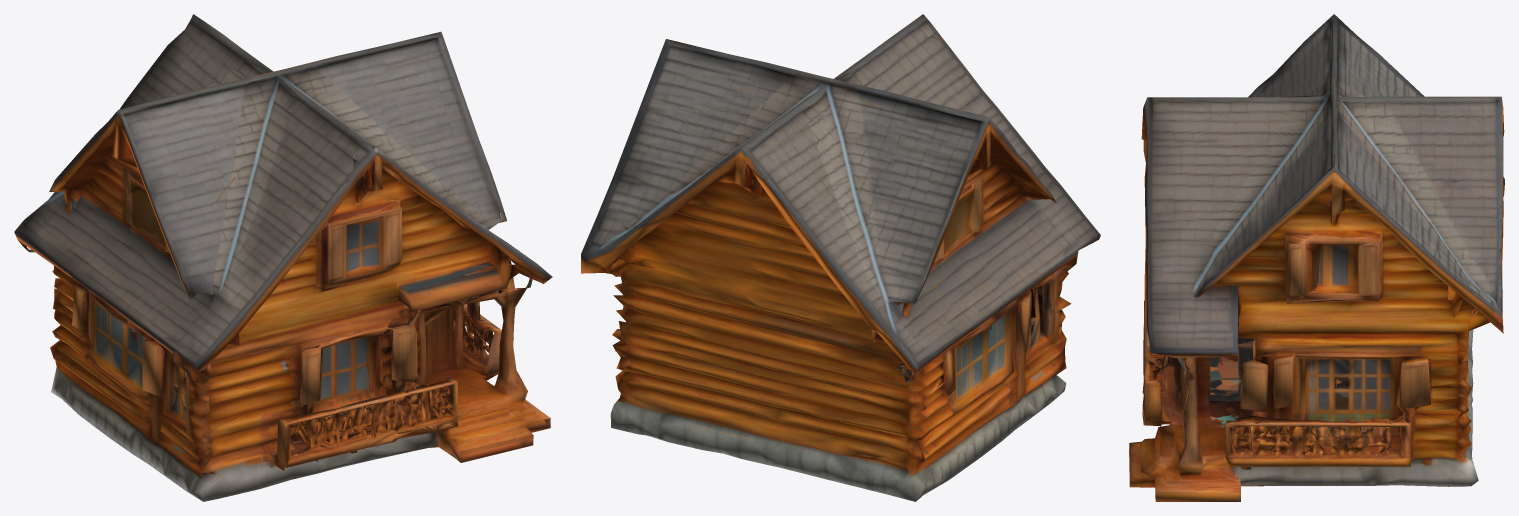
File: nhacap4.glb
3 renders of one model, left to right at view 1: azimuth 30°, elevation 25°; view 2: azimuth 150°, elevation 25°; view 3: azimuth 270°, elevation 25°, orthographic. The views are drawn at different scales.
Bounding box in the file's own units: 2 × 1.79 × 1.86.
1 material, 1 textured.
